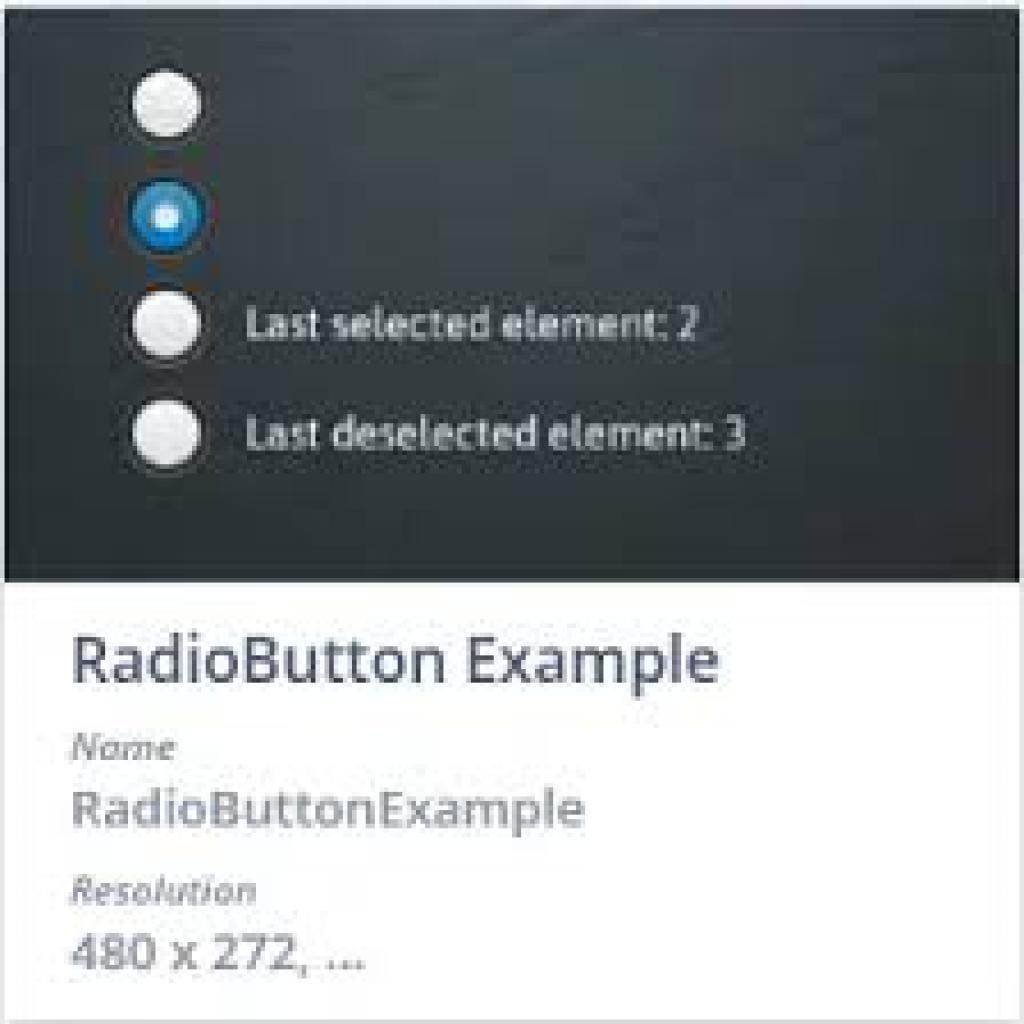radio: (128, 393, 208, 474), (126, 178, 207, 255), (130, 69, 203, 144), (131, 290, 204, 359)
